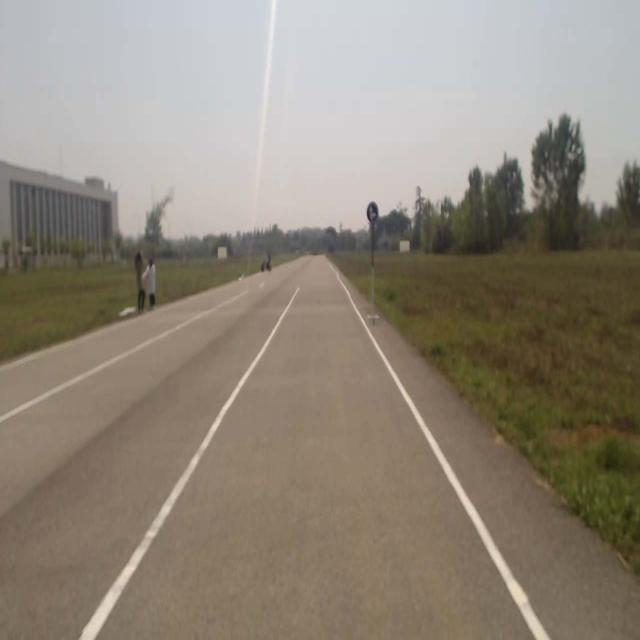ilerisag: (366, 202, 379, 220)
